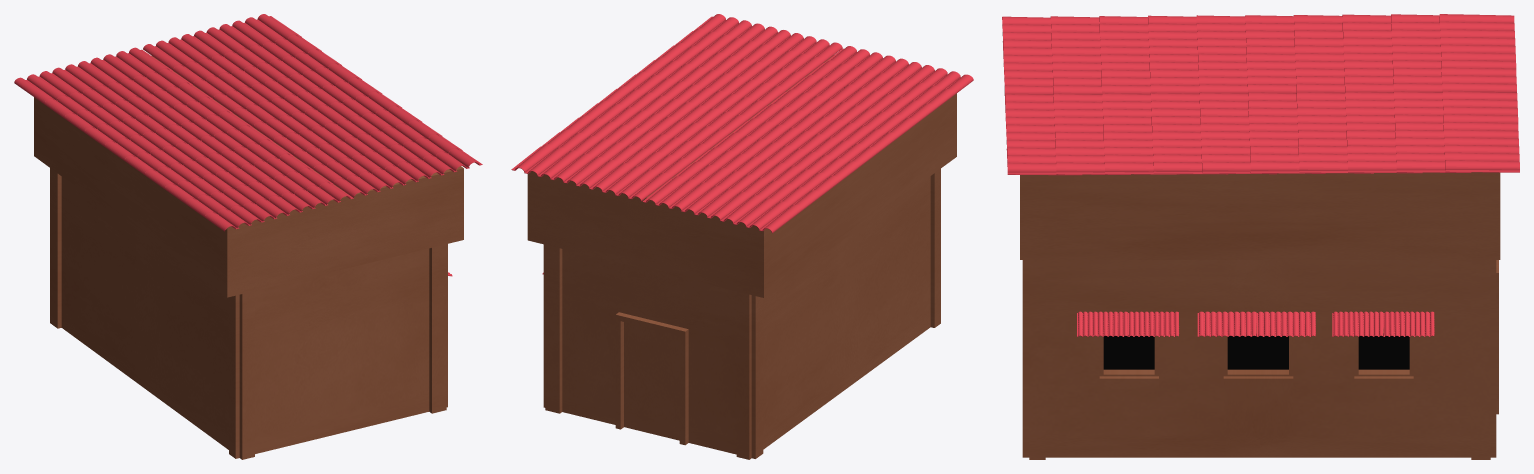
Rendered from MARKET.fbx.
The picture shows the model from 3 angles, left to right: view 1: azimuth 30°, elevation 25°; view 2: azimuth 150°, elevation 25°; view 3: azimuth 270°, elevation 25°; orthographic projection. The views are drawn at different scales.
Visible parts, largest first — view 1: Cube, Circle.001, Cube.001; view 2: Cube, Circle.001, Cube.001; view 3: Cube, Circle.001, Cube.001, Circle.004, Circle.003, Circle.002.
Part boxes in pixels (x1=…): Cube: x1=50, y1=168, x2=447, y2=459; Circle.001: x1=14, y1=14, x2=482, y2=231; Cube.001: x1=34, y1=55, x2=463, y2=297; Cube: x1=543, y1=169, x2=940, y2=459; Circle.001: x1=511, y1=14, x2=973, y2=233; Cube.001: x1=527, y1=55, x2=956, y2=297; Cube: x1=1022, y1=260, x2=1498, y2=459; Circle.001: x1=1002, y1=14, x2=1519, y2=175; Cube.001: x1=1020, y1=172, x2=1500, y2=259; Circle.004: x1=1197, y1=311, x2=1315, y2=336; Circle.003: x1=1332, y1=311, x2=1434, y2=336; Circle.002: x1=1077, y1=311, x2=1179, y2=336.
Size of the model in its own units: 773 by 689 by 1054.
6 materials, 2 textured.
